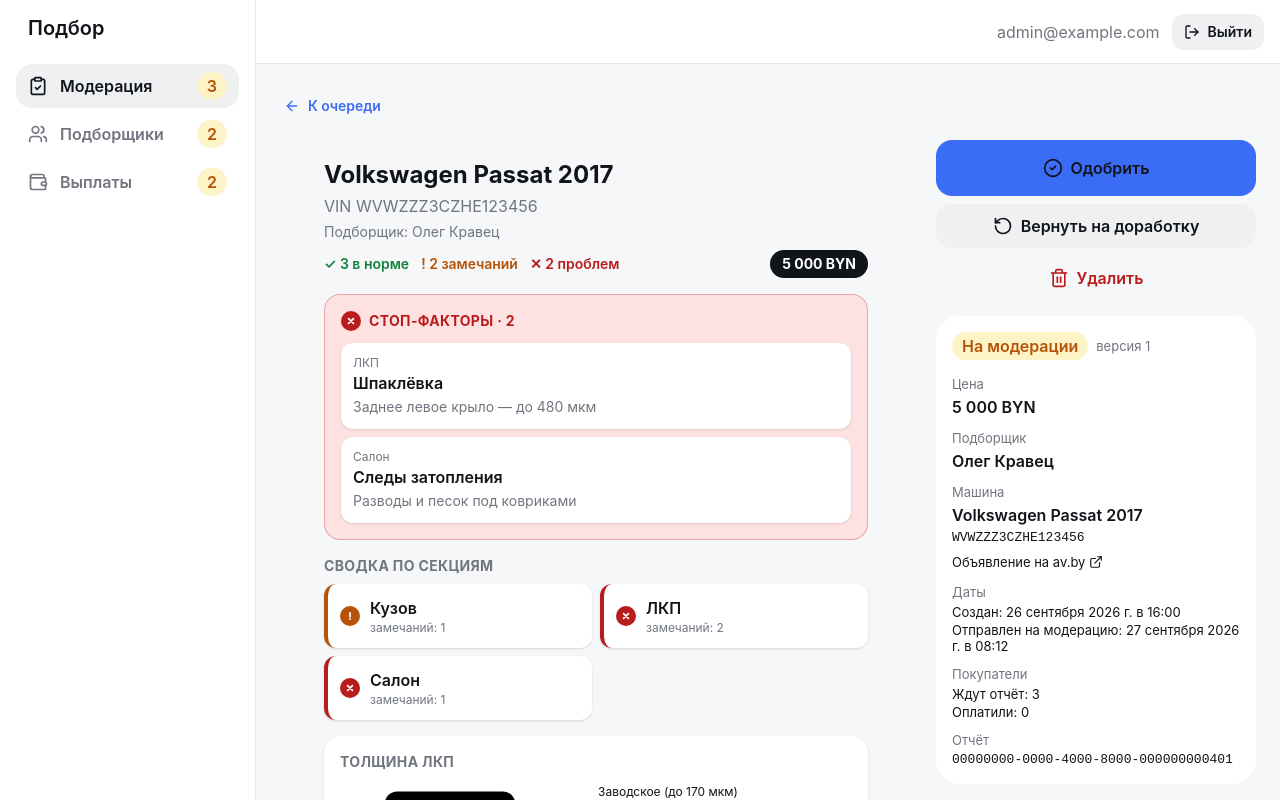
Test: одобрить › «Отмена» закрывает диалог без запроса
Click the button "Одобрить".
click(1096, 168)  # box [936,140,1256,196]
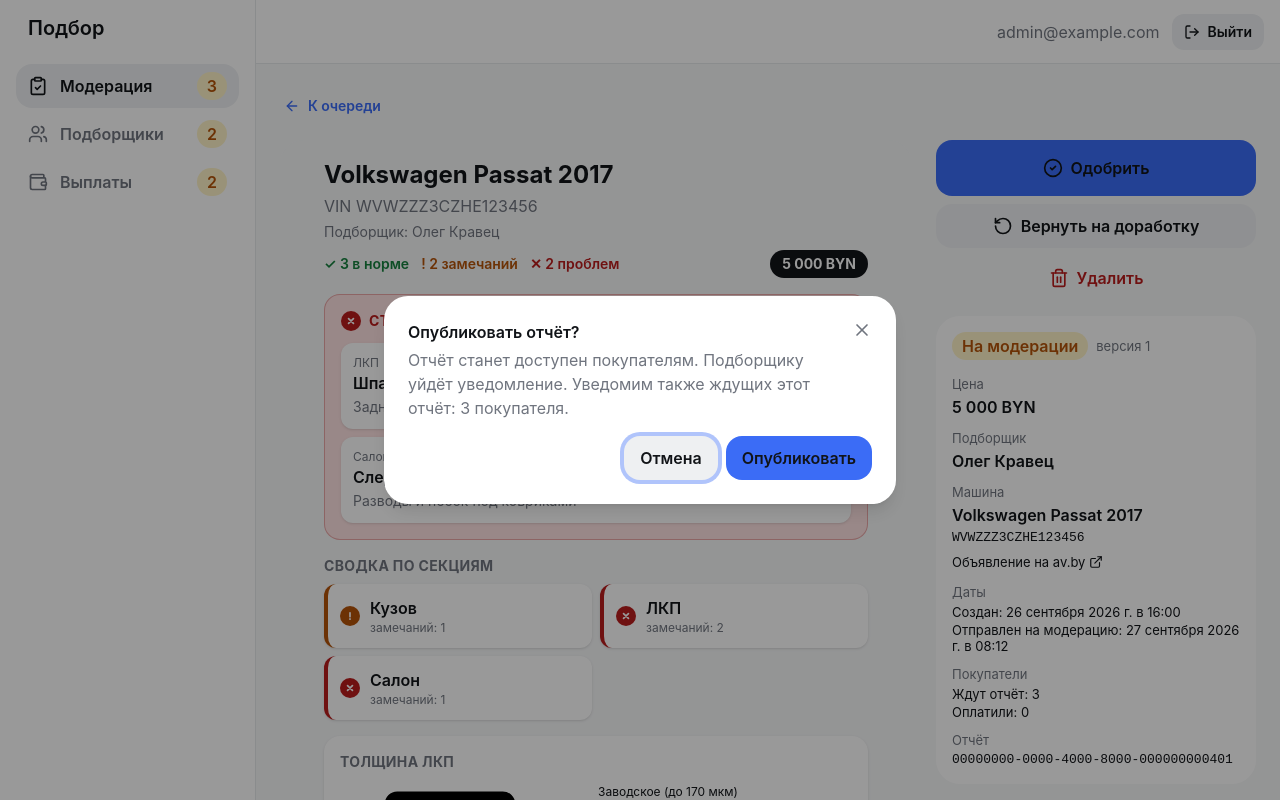
Click the button "Отмена".
click(671, 458)  # box [624,436,718,480]
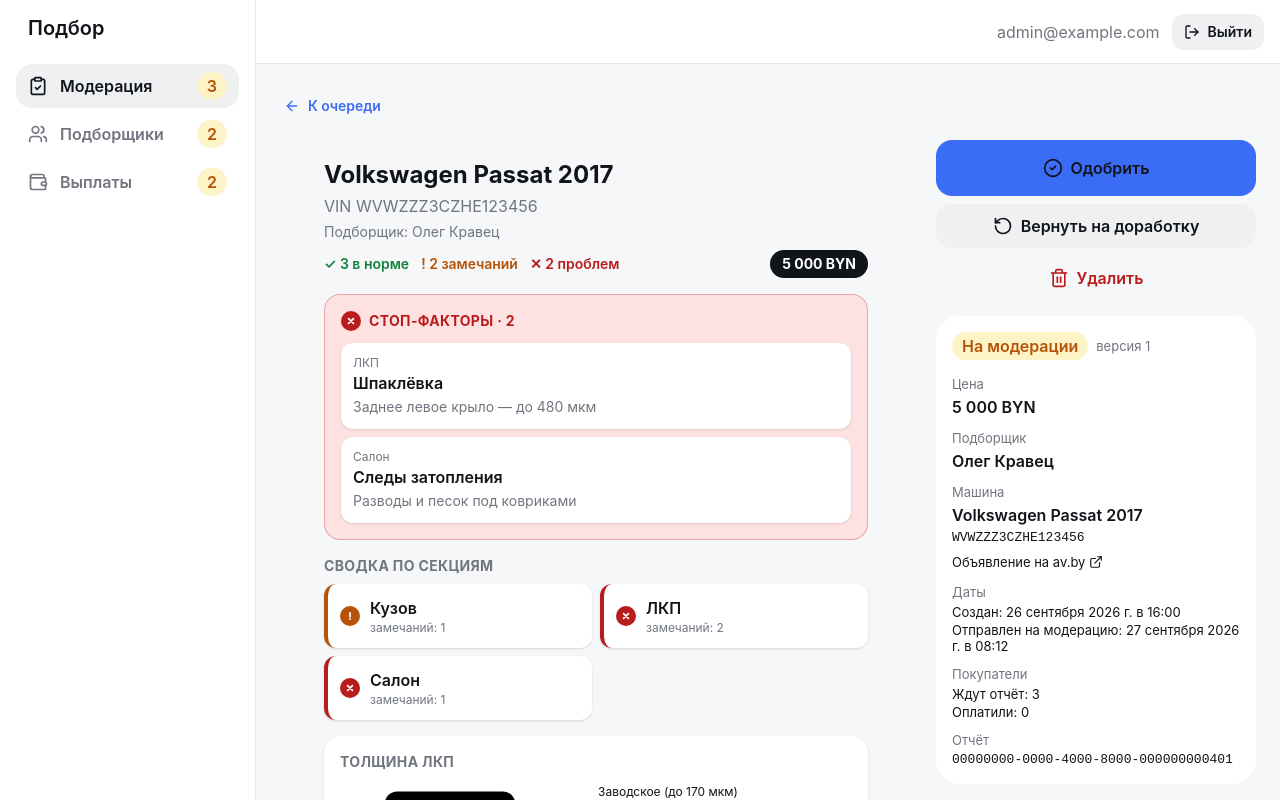
Check: the heading "Опубликовать отчёт?" is gone
